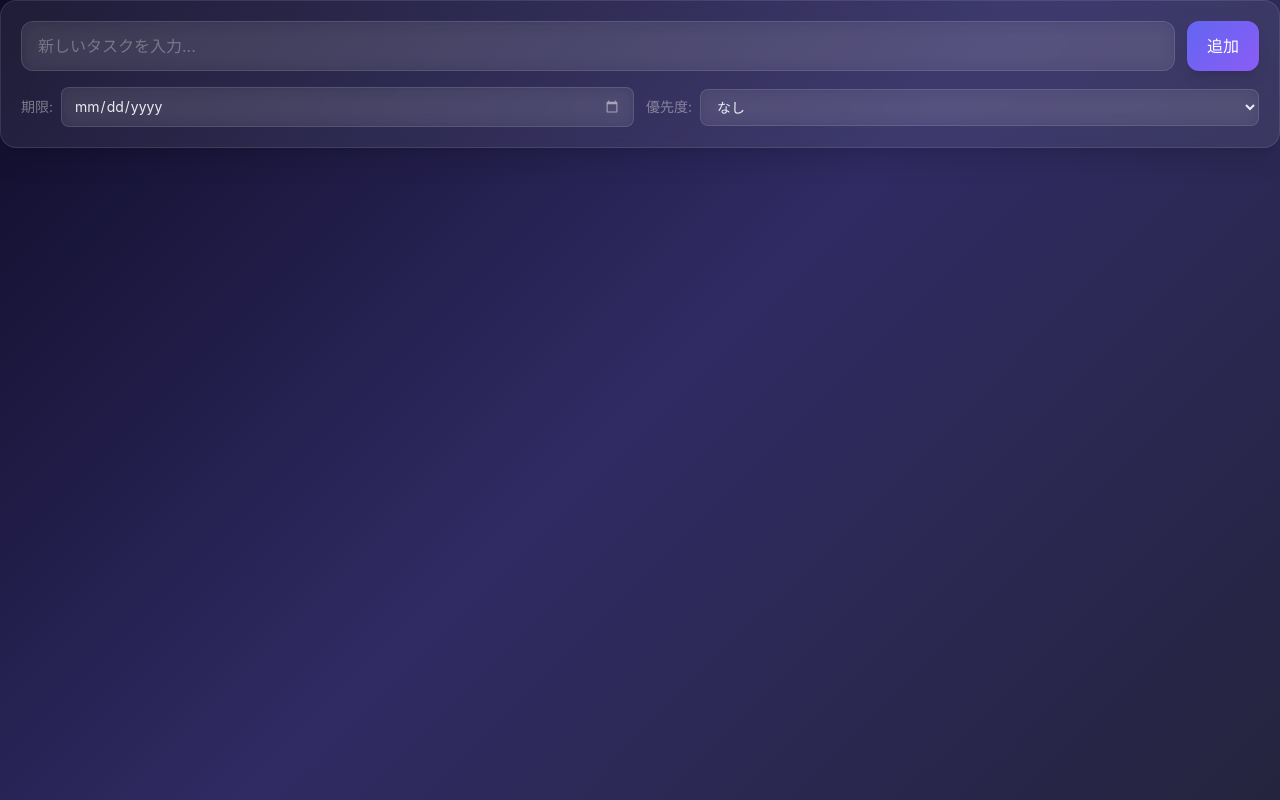
Test: TodoForm › 送信後、入力フィールドがクリアされる
Step 1. Type "テストタスク" into the field with placeholder "新しいタスクを入力..." → x=598, y=46, box [21,21,1175,71]
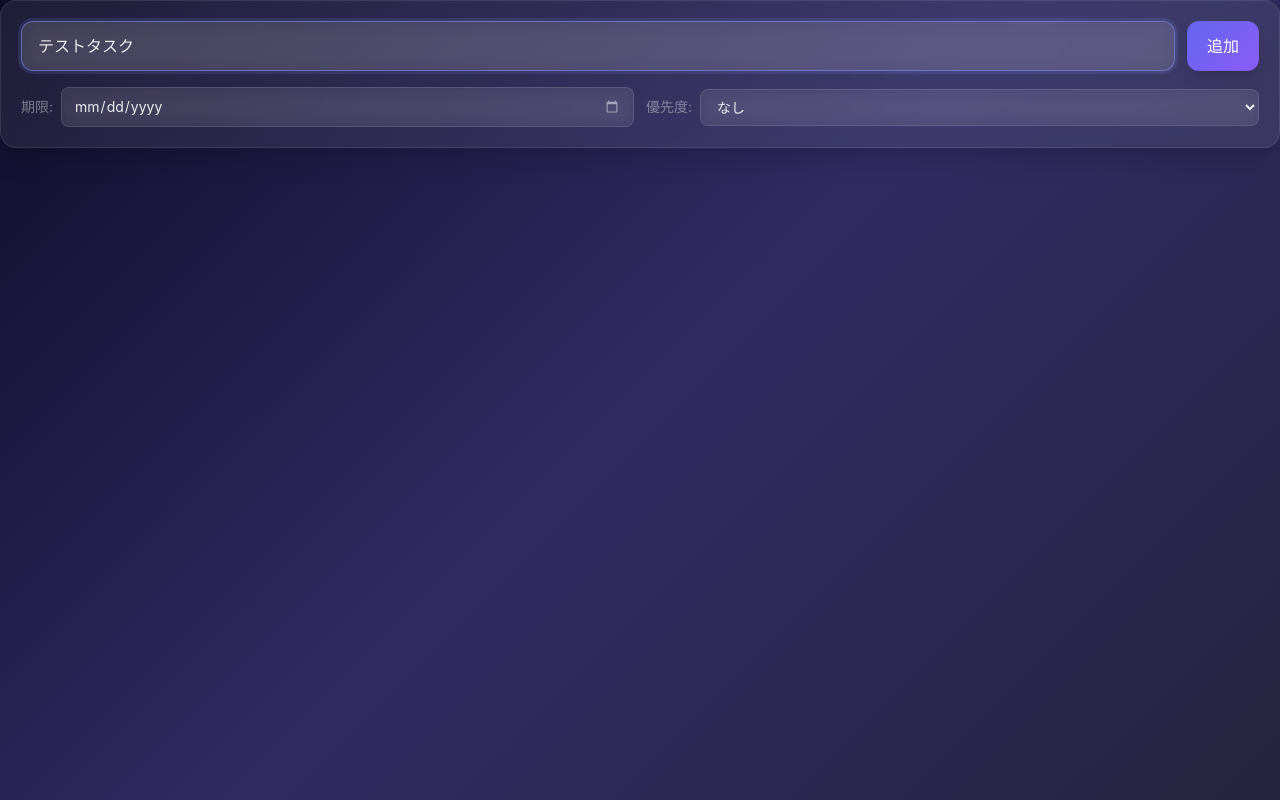
Step 2. Click the button "追加" → x=1223, y=46, box [1187,21,1259,71]
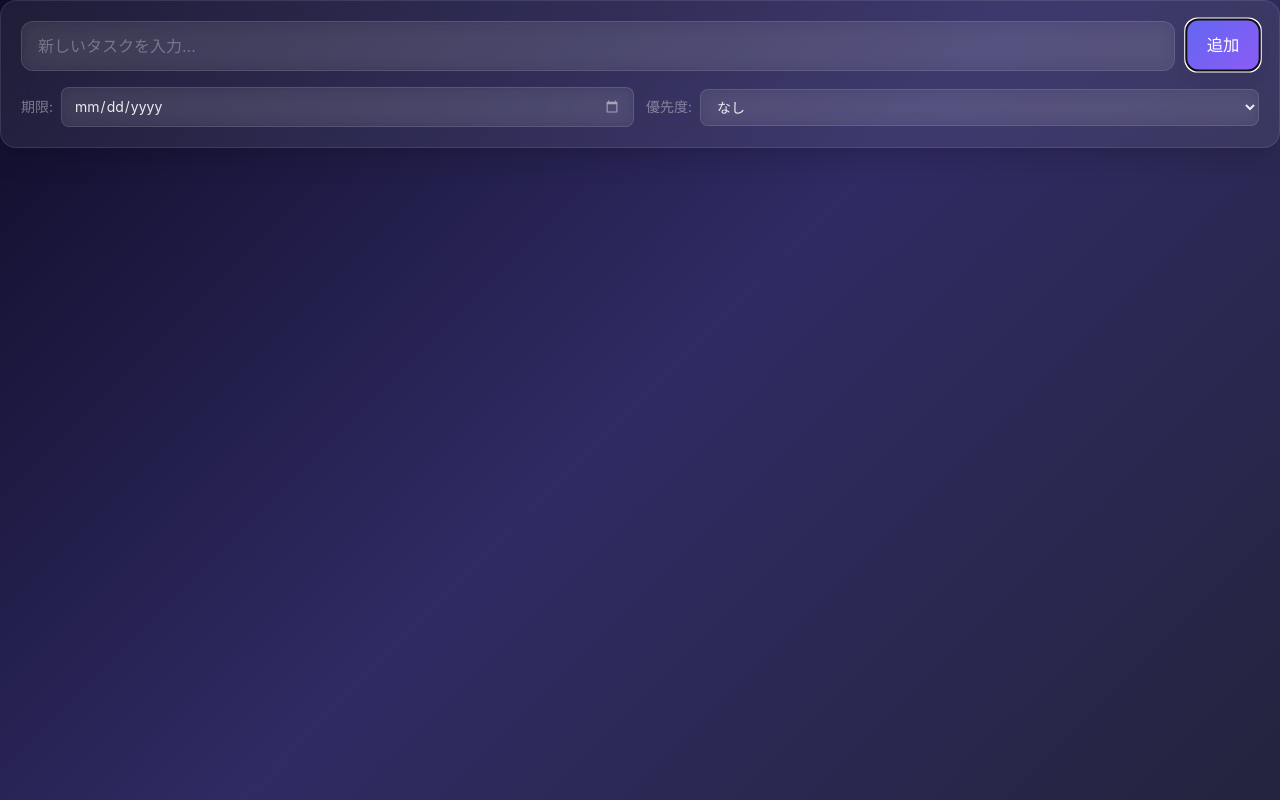
Result: the field with placeholder "新しいタスクを入力..." is empty at [21,21,1175,71]
